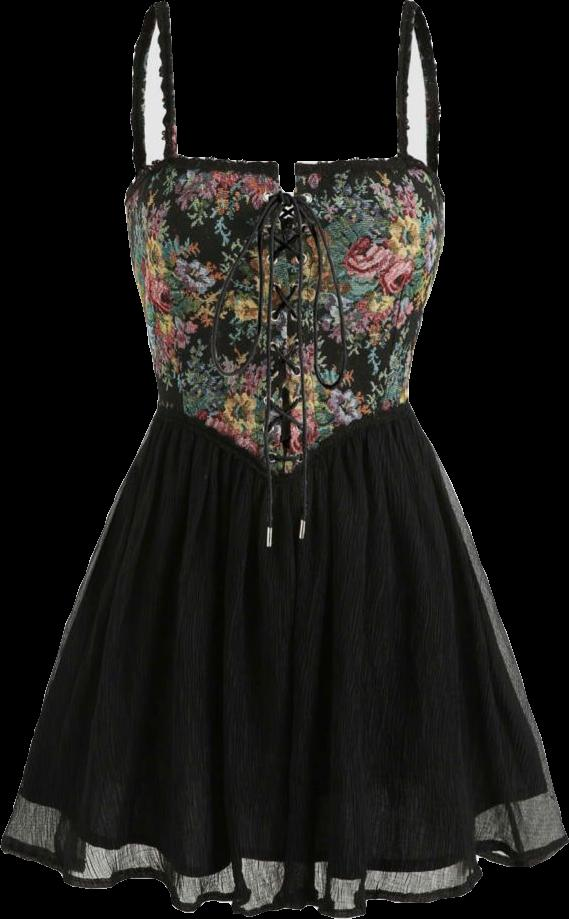Bodice: (124, 0, 444, 473)
Hemline: (0, 837, 568, 918)
Neckline: (161, 0, 410, 197)
Skirt: (1, 401, 568, 918)
Waistline: (156, 396, 411, 479)
